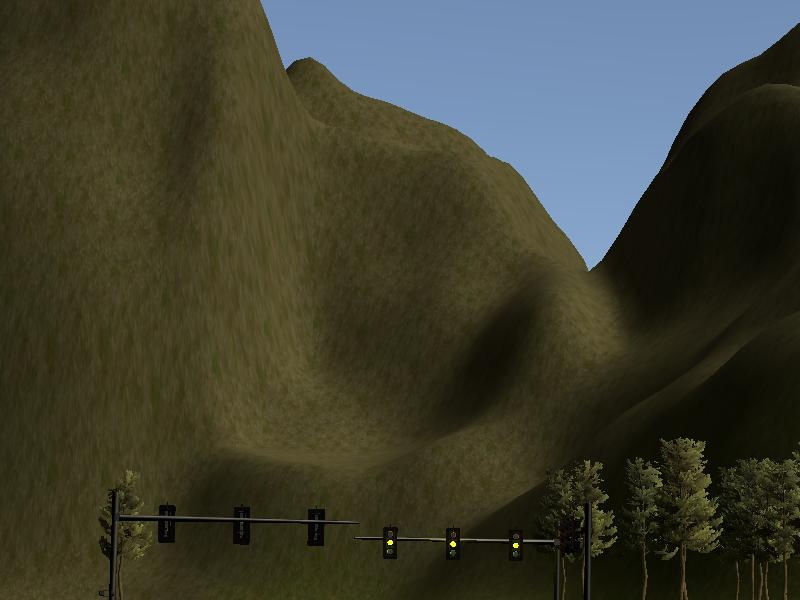Yellow: (380, 523, 399, 560), (444, 525, 461, 562), (507, 527, 522, 562)
